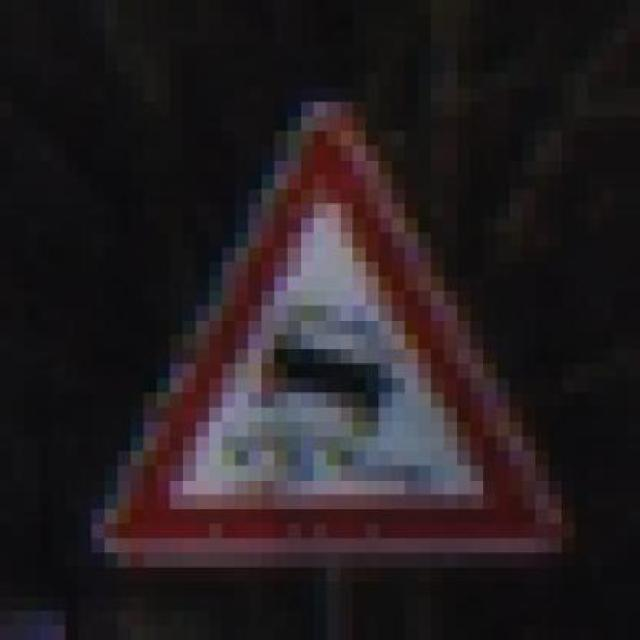Slippery Road Ahead: (66, 87, 574, 567)
